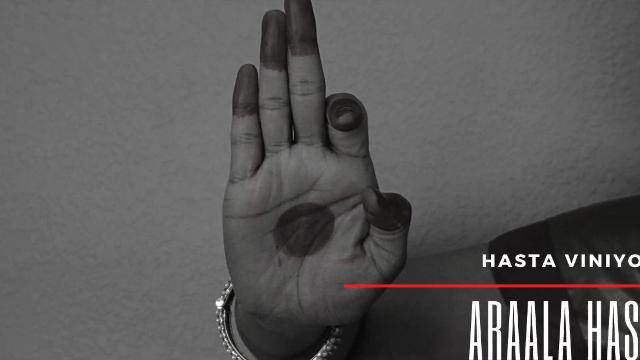aral: (202, 0, 462, 360)
